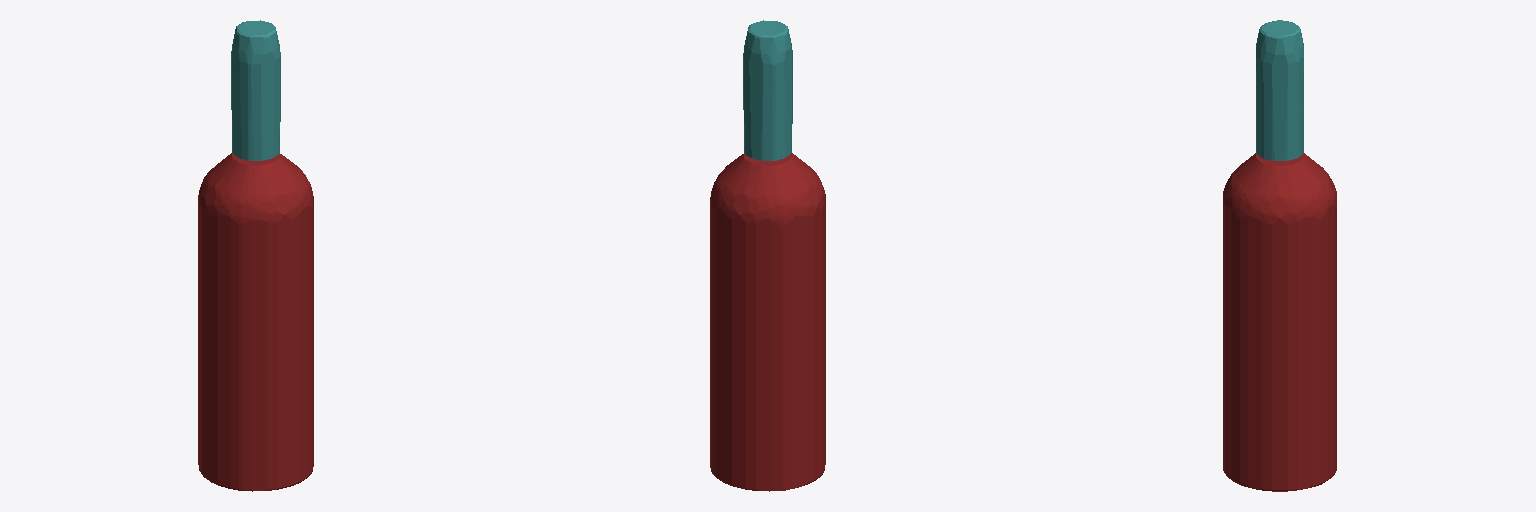
robot.urdf — root:
<robot name="root">
  <link name="bottle_body">
    <inertial>
      <origin xyz="0 0 0" rpy="0 0 0"/>
    </inertial>
    <mass value="1.00E-02"/>
    <visual>
      <origin xyz="0 0 0" rpy="0 0 0"/>
      <geometry>
        <mesh filename="core-bottle-8cd9b10f611ac28e866a1445c8fba9da-coacd_convex_piece_1.obj" scale="1.0000E-01 1.0000E-01 1.0000E-01"/>
      </geometry>
      <material name="">
        <color rgba="6.00E-01 2.00E-01 2.00E-01 1"/>
      </material>
    </visual>
    <collision>
      <origin xyz="0 0 0" rpy="0 0 0"/>
      <geometry>
        <mesh filename="core-bottle-8cd9b10f611ac28e866a1445c8fba9da-coacd_convex_piece_1.obj" scale="1.0000E-01 1.0000E-01 1.0000E-01"/>
      </geometry>
    </collision>
  </link>
  <link name="bottle_cap">
    <origin xyz="0 0 0.002" rpy="0 0 0"/>
    <mass value="1.00E-02"/>
    <visual>
      <origin xyz="0 0 0.002" rpy="0 0 0"/>
      <geometry>
        <mesh filename="core-bottle-8cd9b10f611ac28e866a1445c8fba9da-coacd_convex_piece_0.obj" scale="1.0000E-01 1.0000E-01 1.0000E-01"/>
      </geometry>
      <material name="">
        <color rgba="3.00E-01 6.00E-01 6.00E-01 1"/>
      </material>
    </visual>
    <collision>
      <origin xyz="0 0 0.002" rpy="0 0 0"/>
      <geometry>
        <mesh filename="core-bottle-8cd9b10f611ac28e866a1445c8fba9da-coacd_convex_piece_0.obj" scale="1.0000E-01 1.0000E-01 1.0000E-01"/>
      </geometry>
    </collision>
  </link>
  <joint name="bottle_cap_joint" type="revolute">
    <origin xyz="0 0 0" rpy="0 0 0"/>
    <parent link="bottle_body"/>
    <child link="bottle_cap"/>
    <axis xyz="0 0 1"/>
    <limit lower="0.00" upper="6.28"/>
    <dynamics damping="0.05"/>
  </joint>
</robot>

--- Facts derived from the render (not from the file) ---
The picture shows the robot from 3 angles, left to right: view 1: azimuth 30°, elevation 25°; view 2: azimuth 150°, elevation 25°; view 3: azimuth 270°, elevation 25°; orthographic projection.
Model root with 2 links and 1 joints (1 revolute), rooted at bottle_body, posed every joint at zero.
Links seen in each view (by area): view 1: bottle_body, bottle_cap; view 2: bottle_body, bottle_cap; view 3: bottle_body, bottle_cap.
Link boxes in pixels (left/top/right/bottom): bottle_body: left=198, top=153, right=313, bottom=491; bottle_cap: left=231, top=20, right=280, bottom=160; bottle_body: left=710, top=153, right=825, bottom=491; bottle_cap: left=743, top=20, right=792, bottom=160; bottle_body: left=1223, top=153, right=1336, bottom=491; bottle_cap: left=1256, top=20, right=1303, bottom=160.
Bounding box of the posed robot: 0.0456 × 0.0456 × 0.1929 m (x, y, z).
Meshes: 2 distinct files referenced, 2 mesh visuals loaded (2 OBJ).